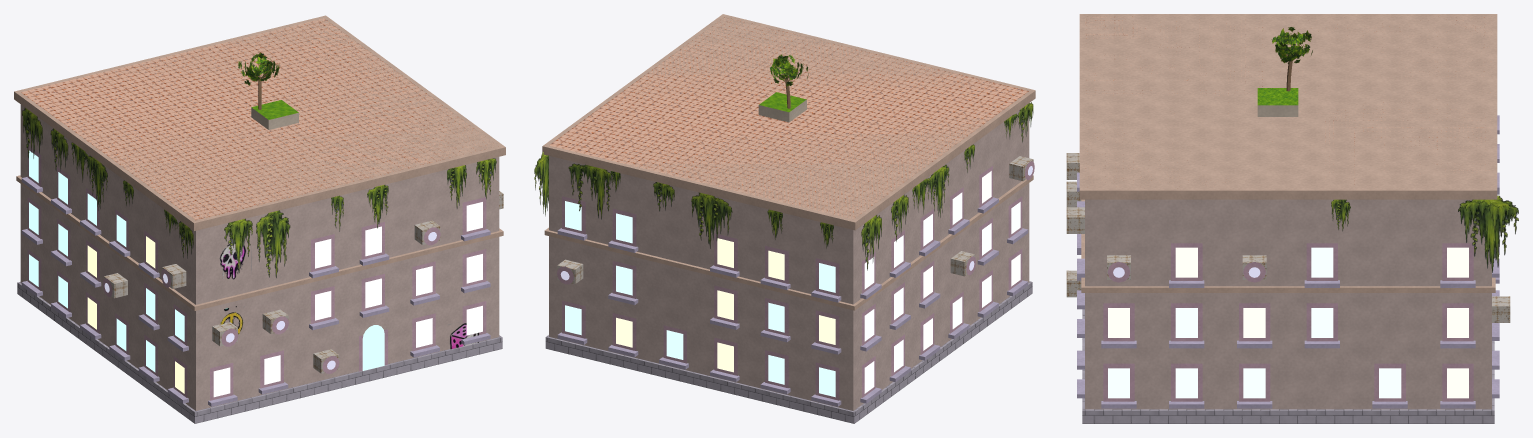
Rendered from BUILDING_14.glb.
The picture shows the model from 3 angles, left to right: view 1: azimuth 30°, elevation 25°; view 2: azimuth 150°, elevation 25°; view 3: azimuth 270°, elevation 25°; orthographic projection. The views are drawn at different scales.
Visible parts, largest first — view 1: B_AS_14_Skin, B_AS_14_Moss, BUILDING_14_Trees; view 2: B_AS_14_Skin, B_AS_14_Moss, BUILDING_14_Trees; view 3: B_AS_14_Skin, B_AS_14_Moss, BUILDING_14_Trees.
Boxes of the visible parts, box(x1,y1,x2,y2) form: B_AS_14_Skin: box(14, 15, 505, 423); B_AS_14_Moss: box(22, 107, 496, 277); BUILDING_14_Trees: box(238, 52, 279, 109); B_AS_14_Skin: box(542, 14, 1035, 423); B_AS_14_Moss: box(534, 102, 1033, 270); BUILDING_14_Trees: box(770, 54, 808, 108); B_AS_14_Skin: box(1066, 14, 1510, 423); B_AS_14_Moss: box(1331, 195, 1518, 272); BUILDING_14_Trees: box(1271, 27, 1312, 91).
Size of the model in its own units: 24.28 by 18.47 by 24.61.
13 materials, 9 textured.
